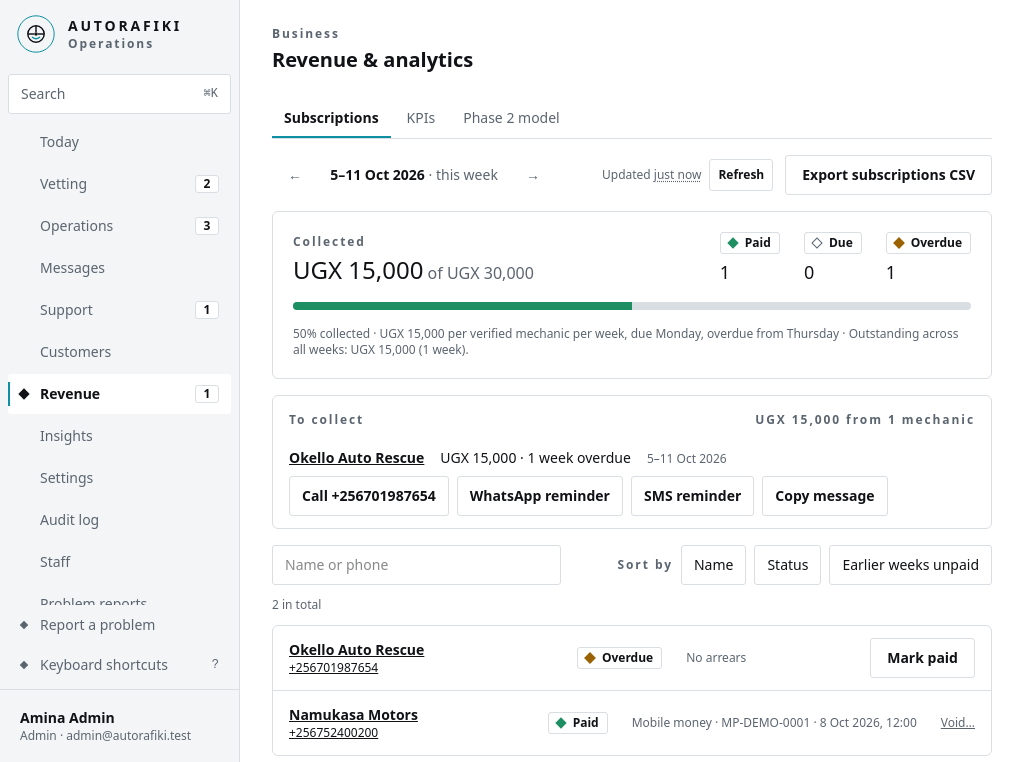
Test case: collecting overdue payments › a payment clears the mechanic from the list
Click the button "Mark paid" at (923, 658), box 870,638 -> 975,678
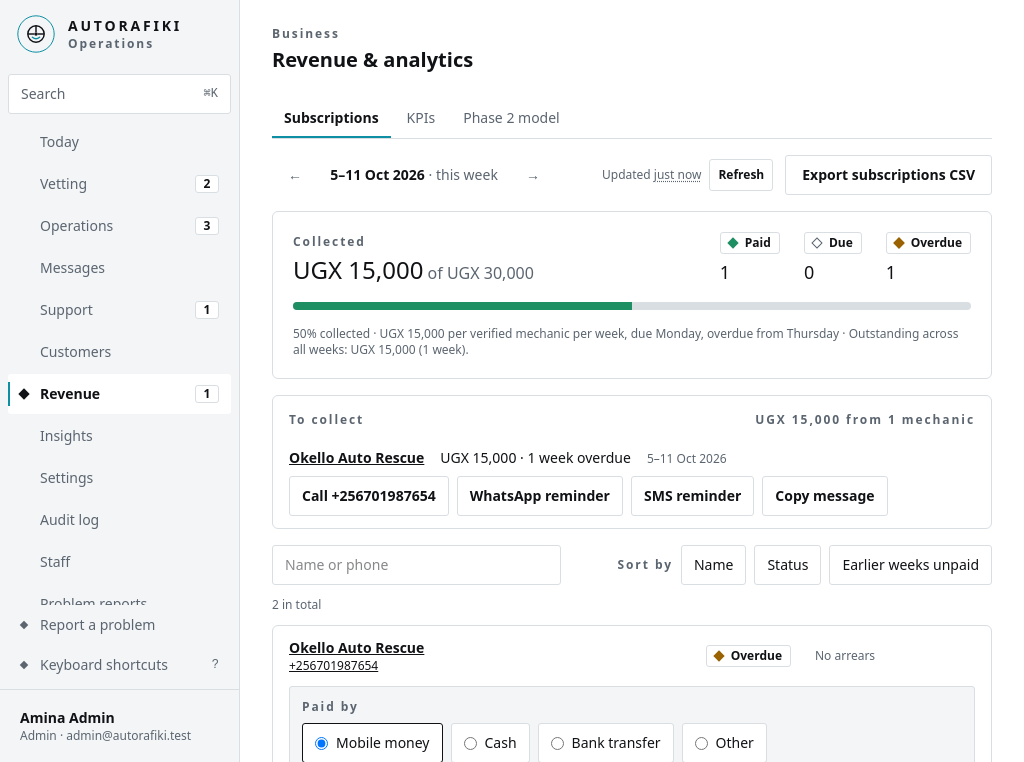
Click the radio button labelled "Cash" at (470, 743), box 464,736 -> 476,750
(page scrolled)
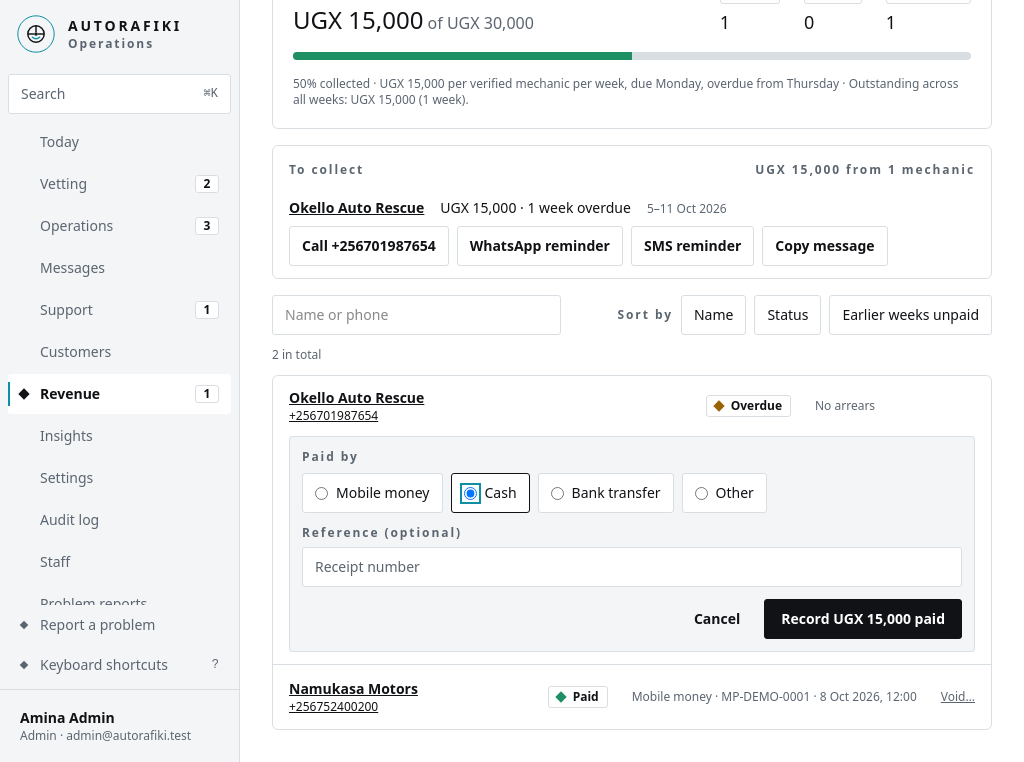
Click the button "Record UGX 15,000 paid" at (863, 619), box 764,599 -> 962,639
(page scrolled)
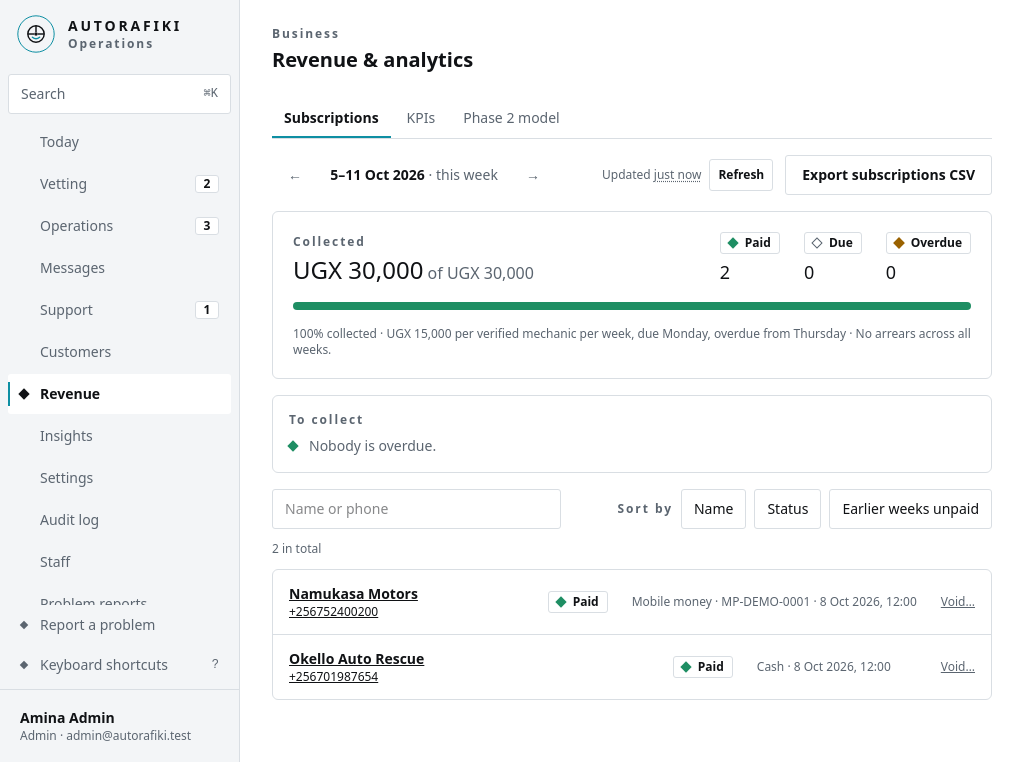
Check: the text "Nobody is overdue." is shown, box 287,436 -> 436,455
